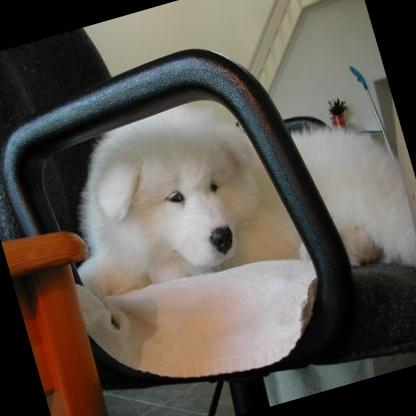Samoyed: (38, 52, 416, 357)
